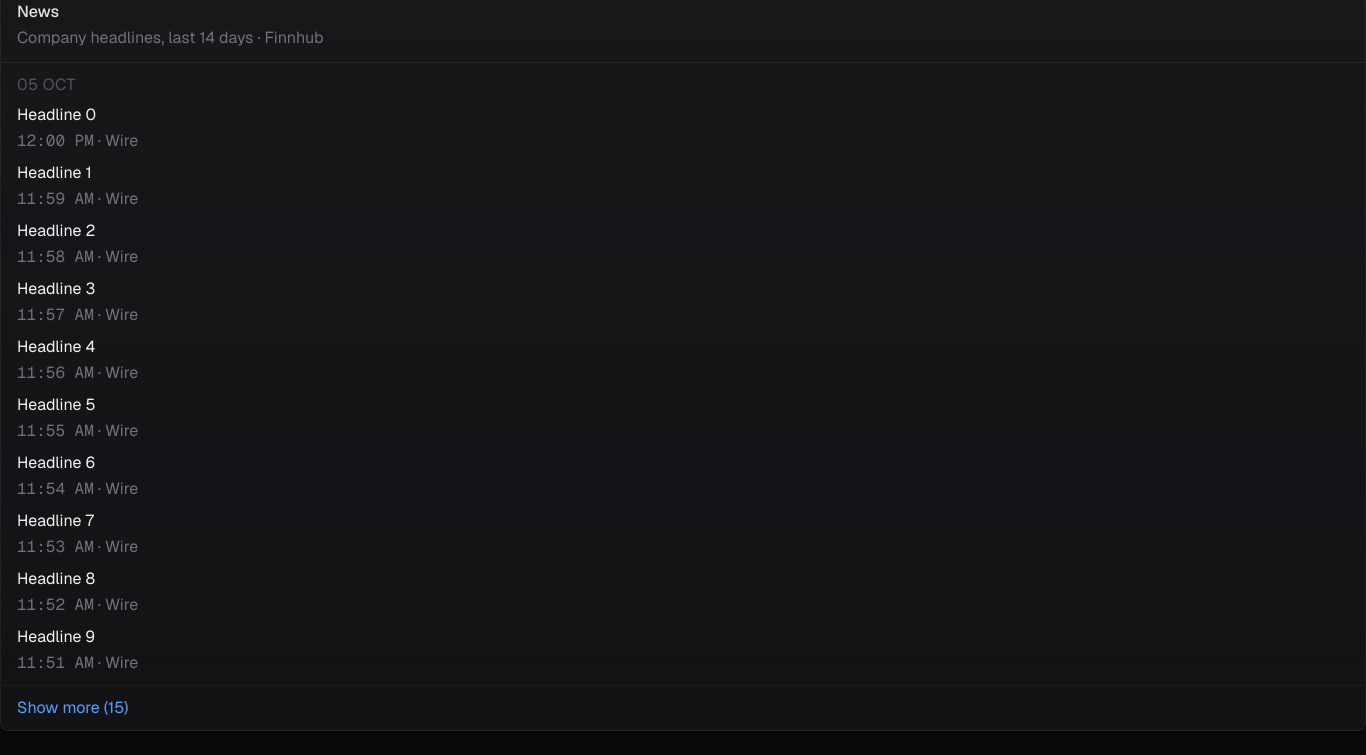
NewsTab › caps the list at ten and reveals more on request
Click the button "Show more (15)". click: (73, 708)
box: [17,696,128,720]
(page scrolled)
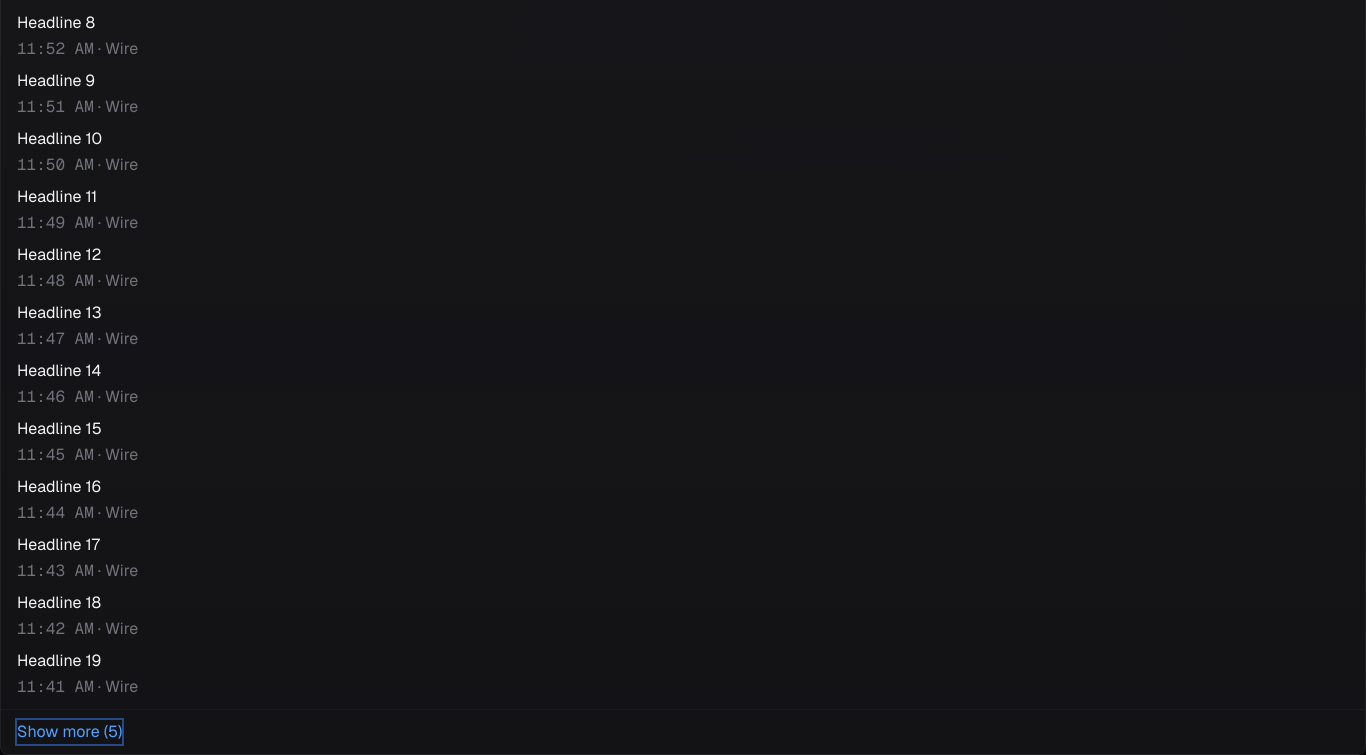
Click the button "Show more (5)". click: (70, 732)
box: [17,720,122,744]
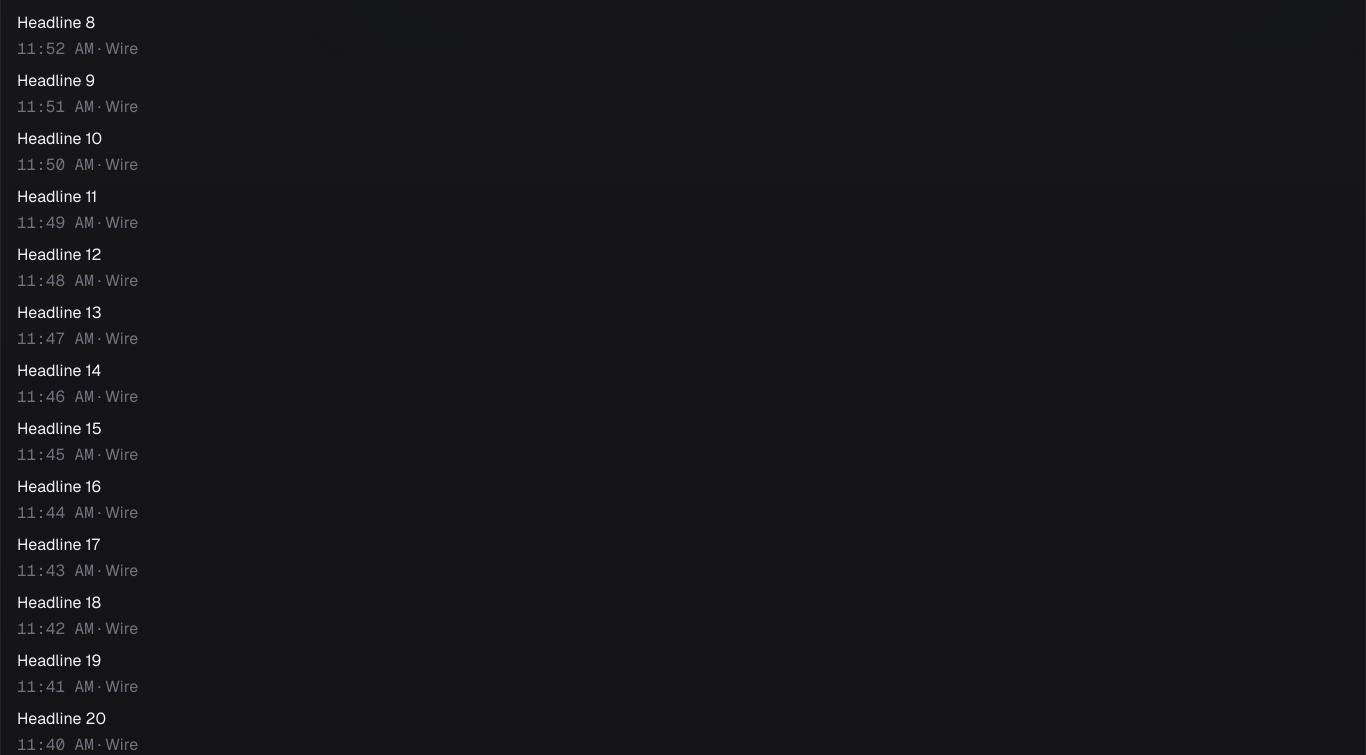
Now the button "Show more" is gone
